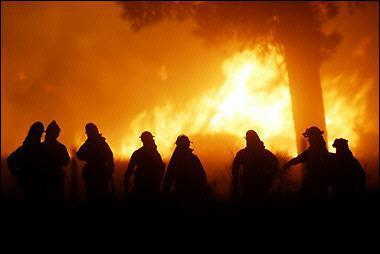fire: (133, 53, 299, 143), (322, 77, 368, 148)
